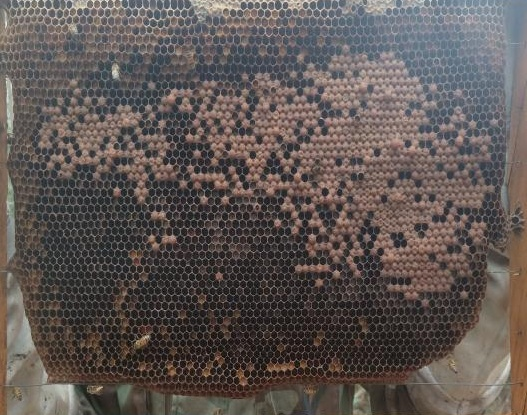cria: (35, 41, 508, 341)
